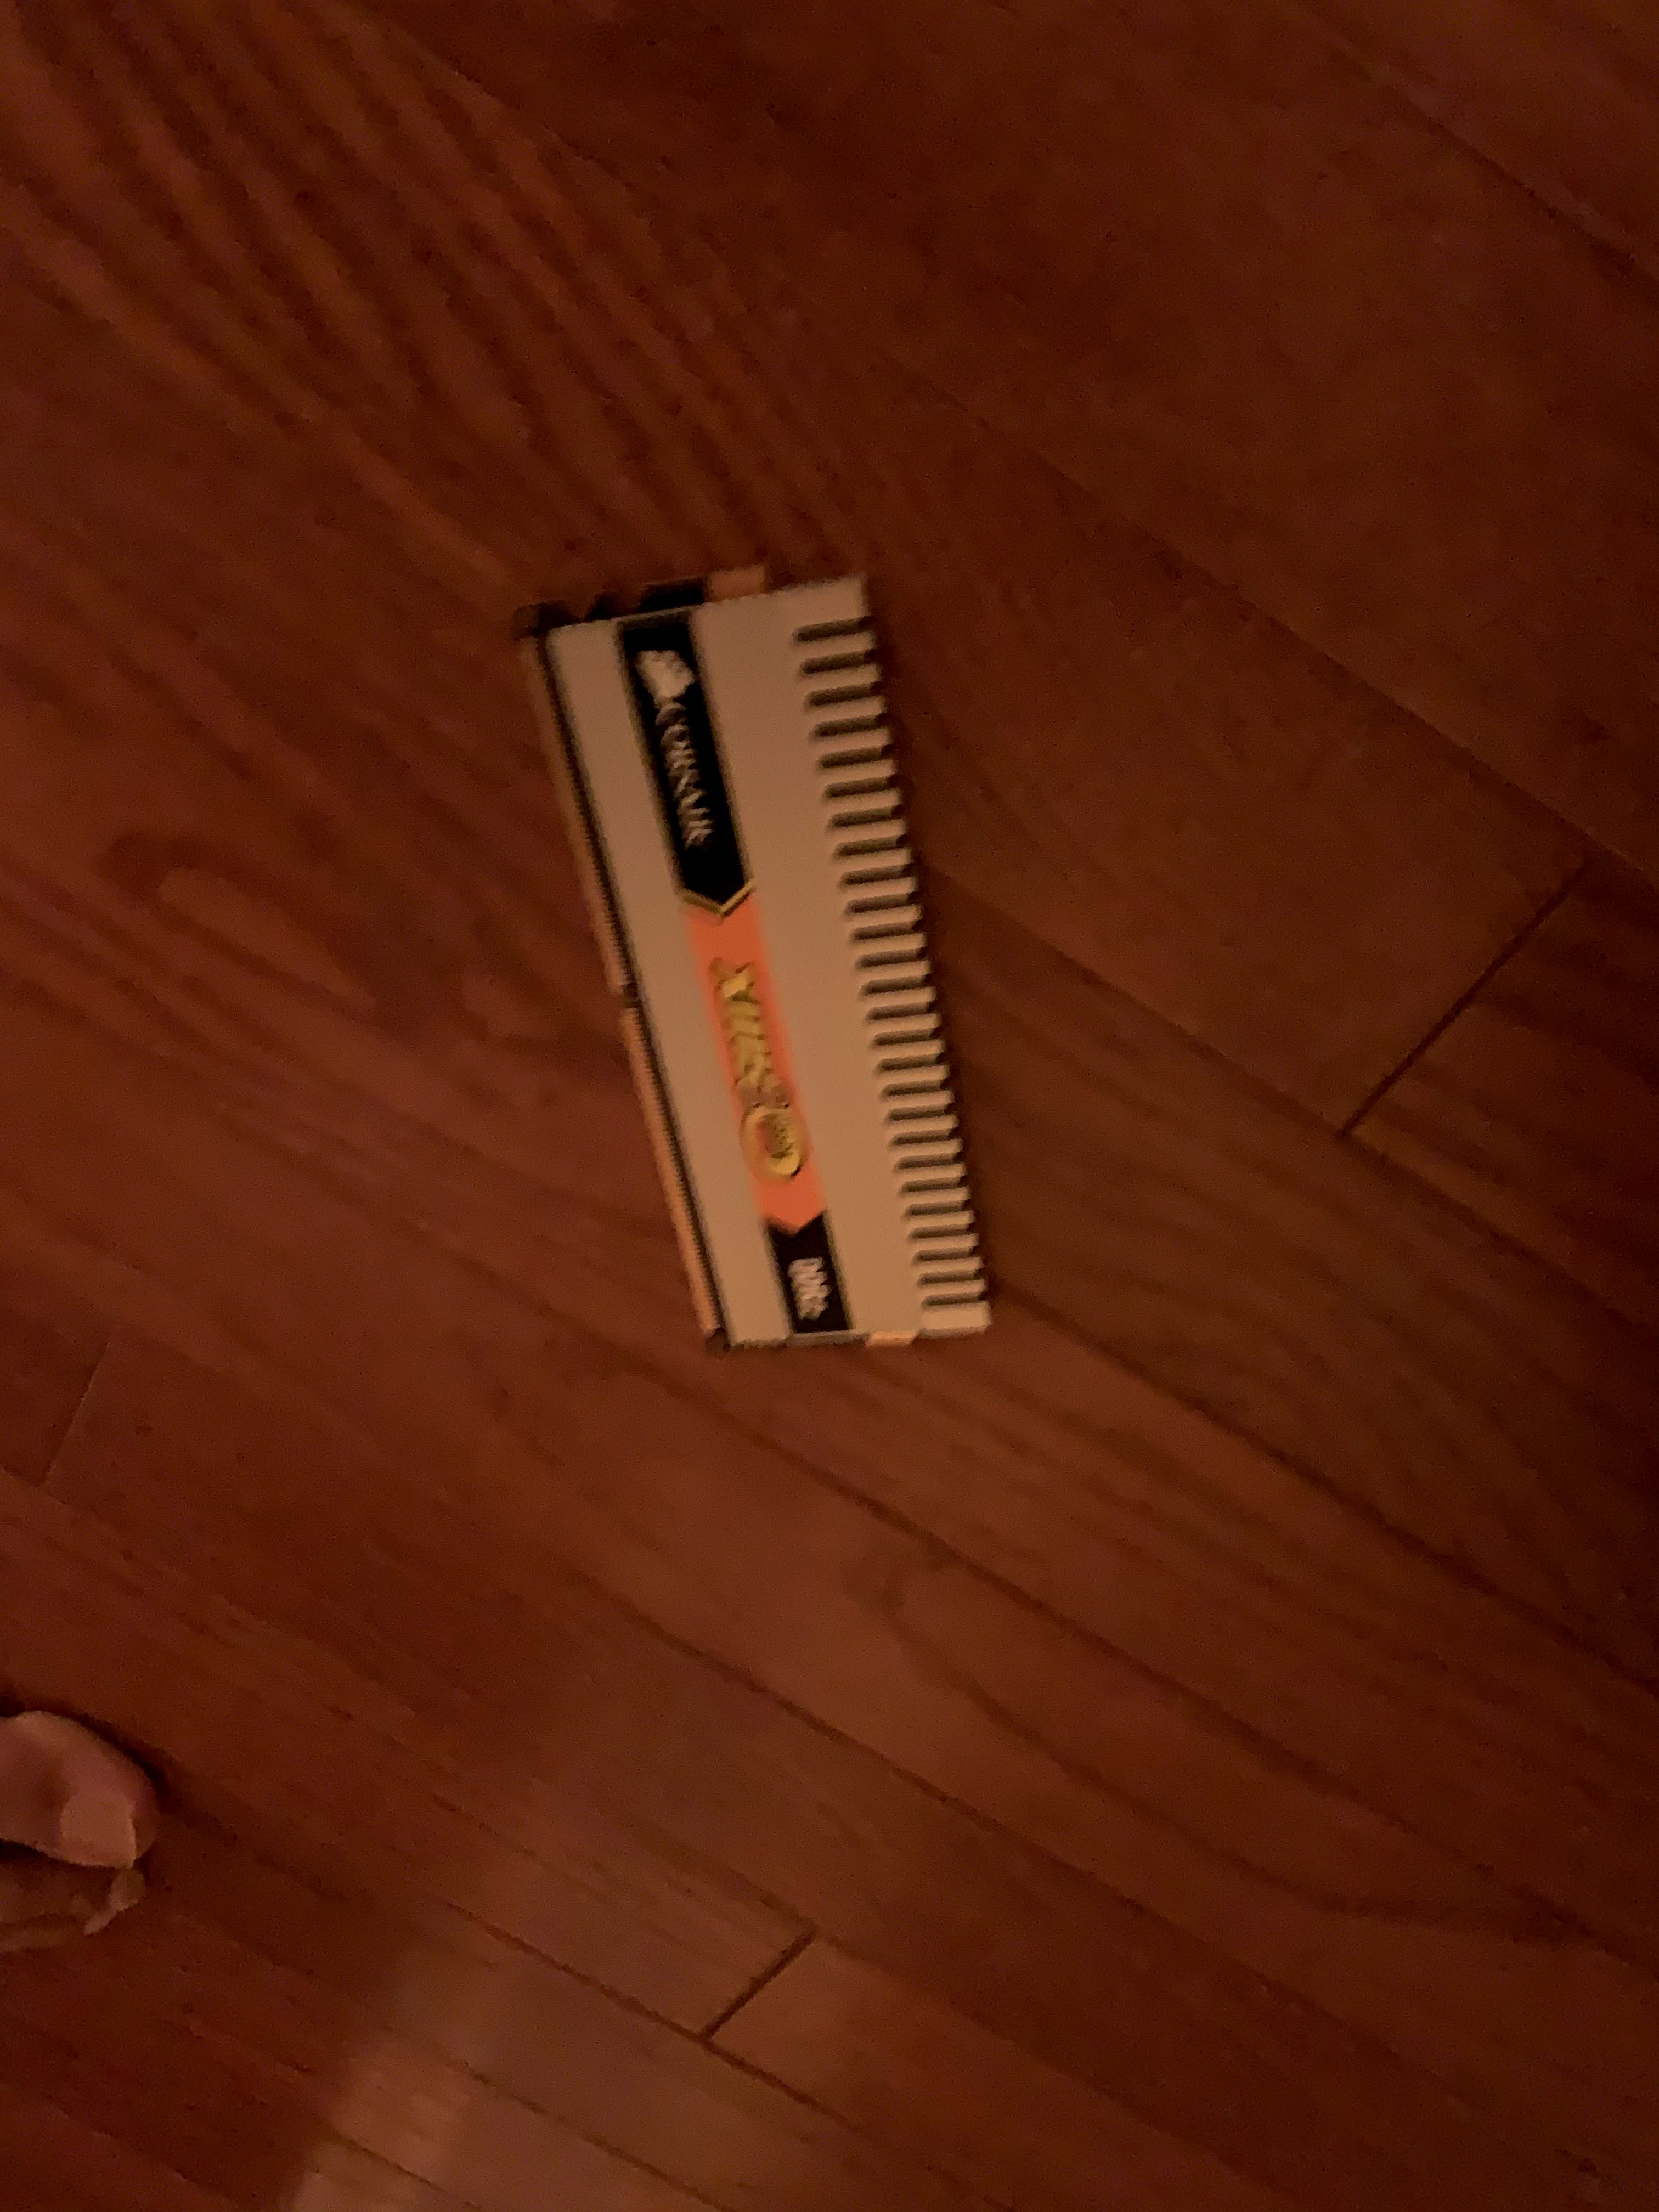Space-debris-medium: (497, 559, 1026, 1364)
